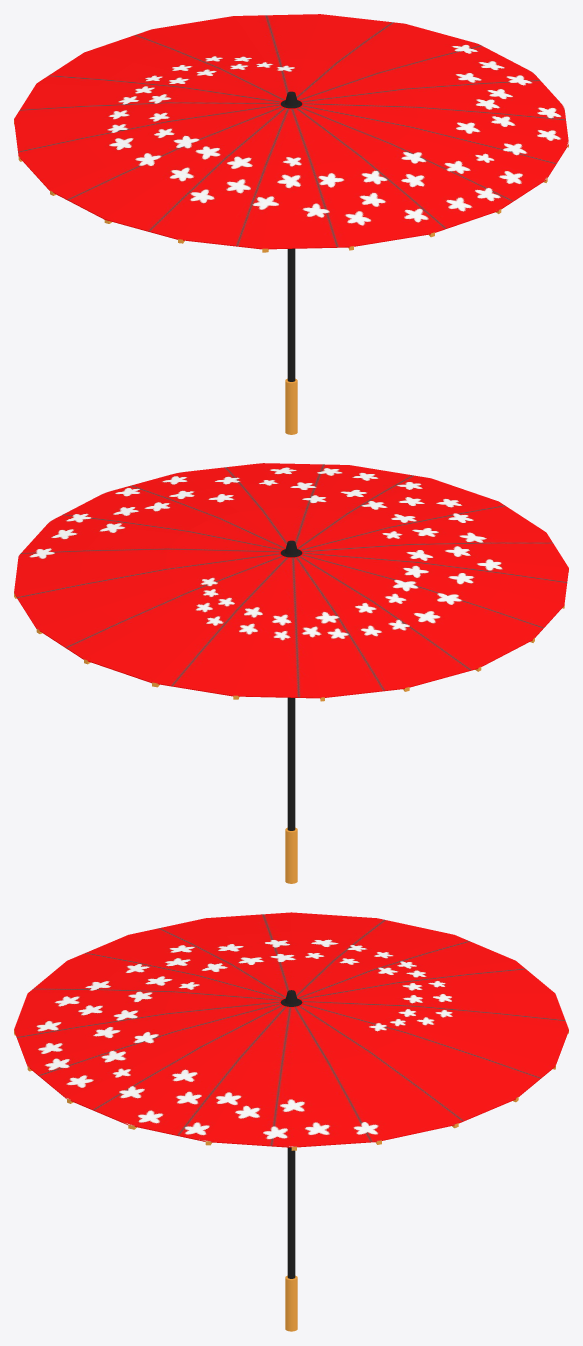
3 views of the same model, one above another, from view 1: azimuth 30°, elevation 25°; view 2: azimuth 150°, elevation 25°; view 3: azimuth 270°, elevation 25° (orthographic).
Parts seen in each view (by area): view 1: Object_3, Object_5, Object_2, Object_6; view 2: Object_3, Object_5, Object_2, Object_6; view 3: Object_3, Object_5, Object_2, Object_6.
Part boxes in pixels (x1,y1,x2,y2): Object_3: (14,14,568,248); Object_5: (280,91,302,381); Object_2: (14,99,568,249); Object_6: (285,378,297,434); Object_3: (14,463,568,697); Object_5: (280,540,302,830); Object_2: (15,548,568,698); Object_6: (285,827,297,883); Object_3: (14,912,568,1146); Object_5: (280,990,302,1278); Object_2: (14,998,568,1147); Object_6: (285,1275,297,1331).
Size of the model in its own units: 3.98 by 2.67 by 3.98.
Materials: 4 (1 with a texture image).
